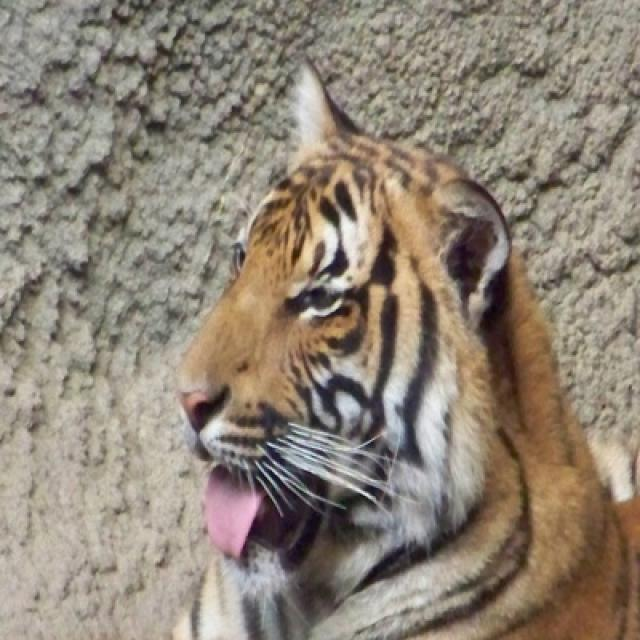Tiger: (166, 58, 638, 638)
